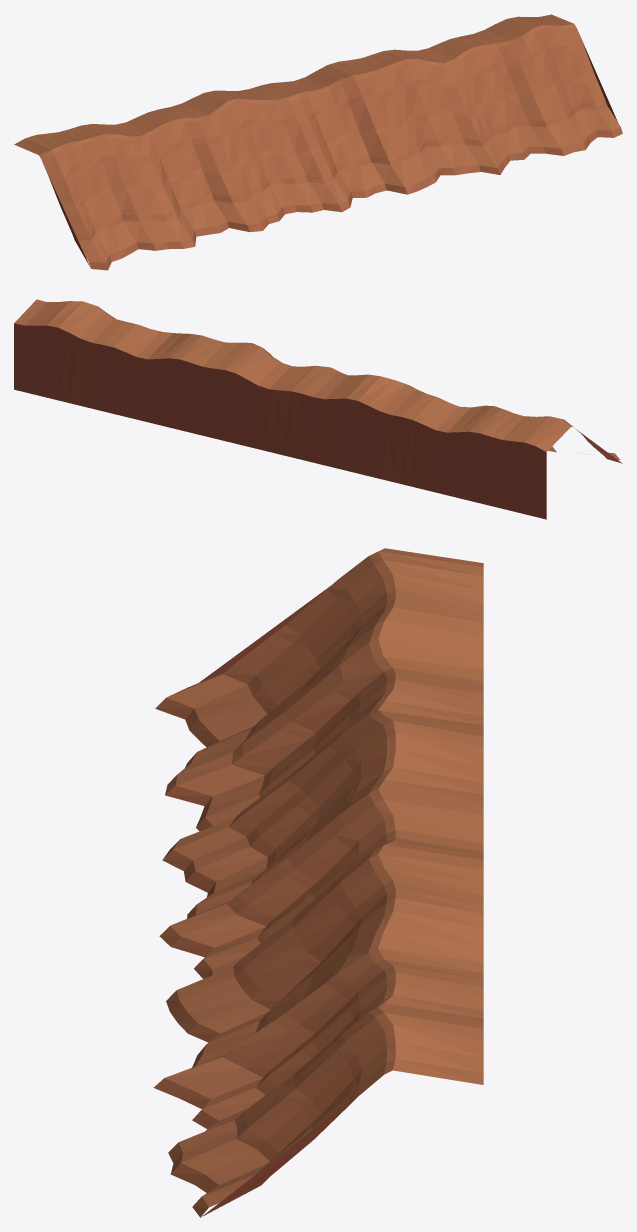
The model's file is ridge-horizon.glb.
3 views of the same model, one above another, from view 1: azimuth 30°, elevation 25°; view 2: azimuth 150°, elevation 25°; view 3: azimuth 270°, elevation 25° (orthographic). The views are drawn at different scales.
Parts seen in each view (by area): view 1: eroded_ridge_wall; view 2: eroded_ridge_wall; view 3: eroded_ridge_wall.
Boxes of the visible parts, x1=… form: eroded_ridge_wall: x1=14, y1=14, x2=622, y2=270; eroded_ridge_wall: x1=14, y1=299, x2=622, y2=519; eroded_ridge_wall: x1=153, y1=548, x2=483, y2=1217.
Bounding box in the file's own units: 140 × 20.3 × 37.59.
